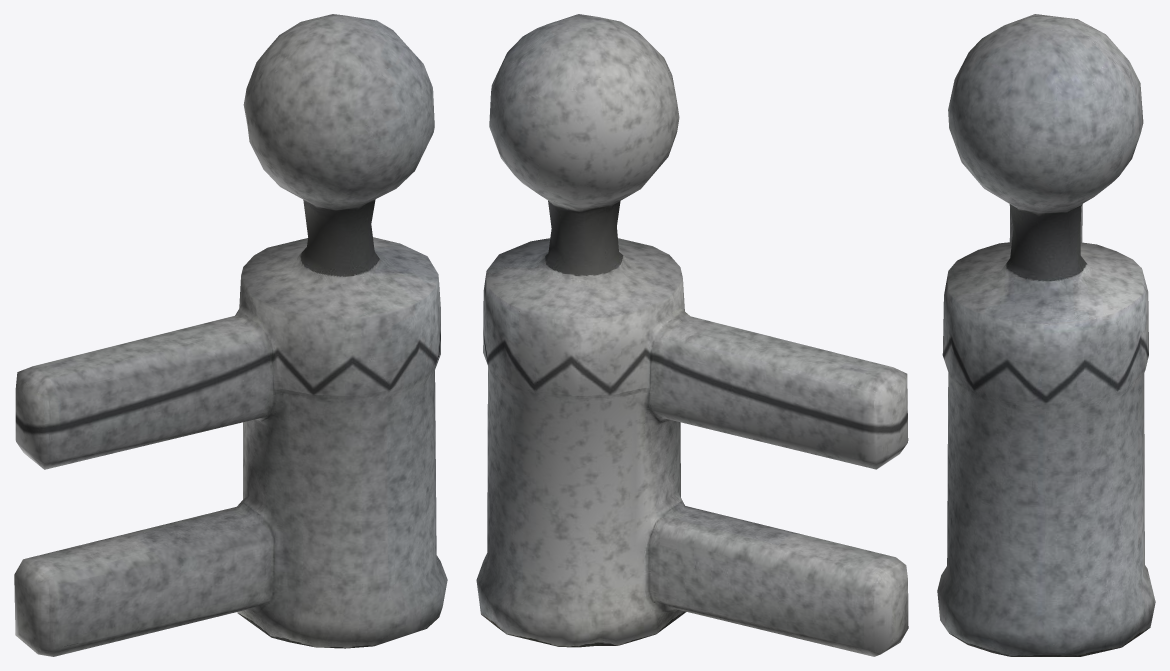
The model's file is balustrade_end_e.glb.
The picture shows the model from 3 angles, left to right: view 1: azimuth 30°, elevation 25°; view 2: azimuth 150°, elevation 25°; view 3: azimuth 270°, elevation 25°; orthographic projection.
Visible parts, largest first — view 1: balustrade_end_e_lod0; view 2: balustrade_end_e_lod0; view 3: balustrade_end_e_lod0.
Part boxes in pixels (x1,y1,x2,y2): balustrade_end_e_lod0: (14,14,447,656); balustrade_end_e_lod0: (476,14,908,656); balustrade_end_e_lod0: (937,14,1155,656).
Bounding box in the file's own units: 0.6596 × 0.893 × 0.2994.
Materials: 1 (1 with a texture image).
